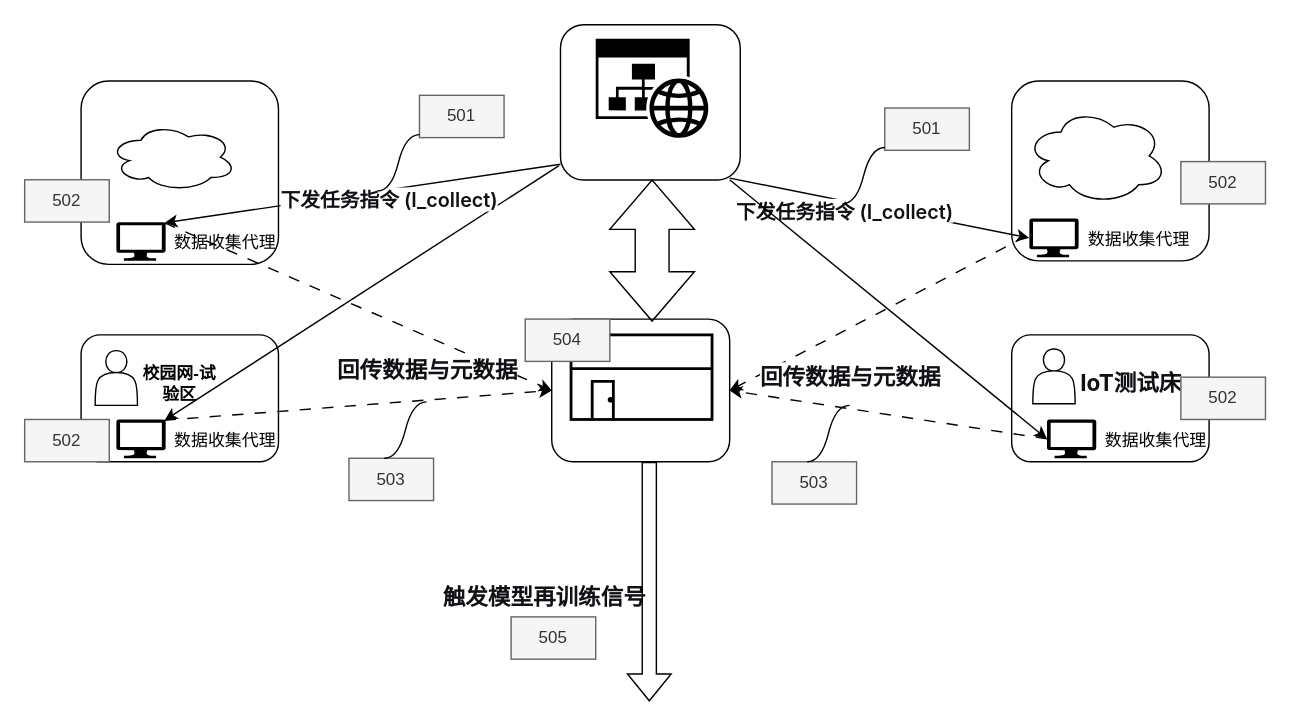
Image size: 1290x726. Some labels were removed from this diagram. The shapes that lost their labels are listed below. From the top down, each one's centre as x and y in pixels, then its label:
(x=651, y=87): 数据收集平台
(x=172, y=156): 公有云-VPC A
(x=1095, y=155): 企业内网-DMZ区
(x=651, y=250): 数据通道
(x=641, y=376): 中央数据仓库
